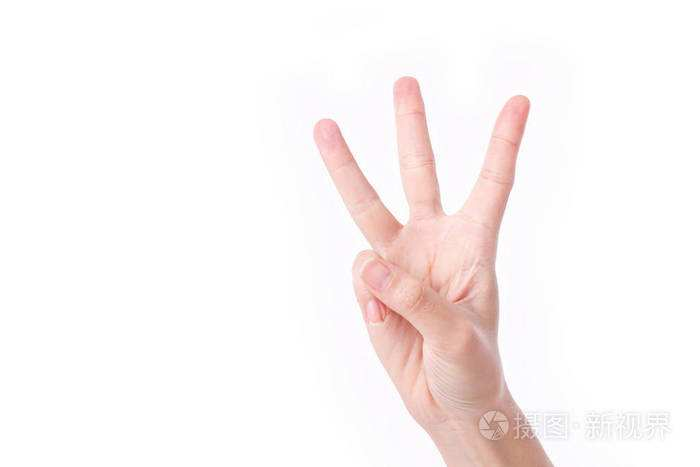no-phone: (307, 67, 534, 429)
